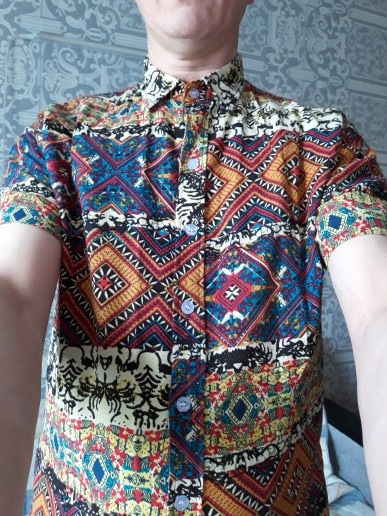shirts: (7, 67, 387, 512)
